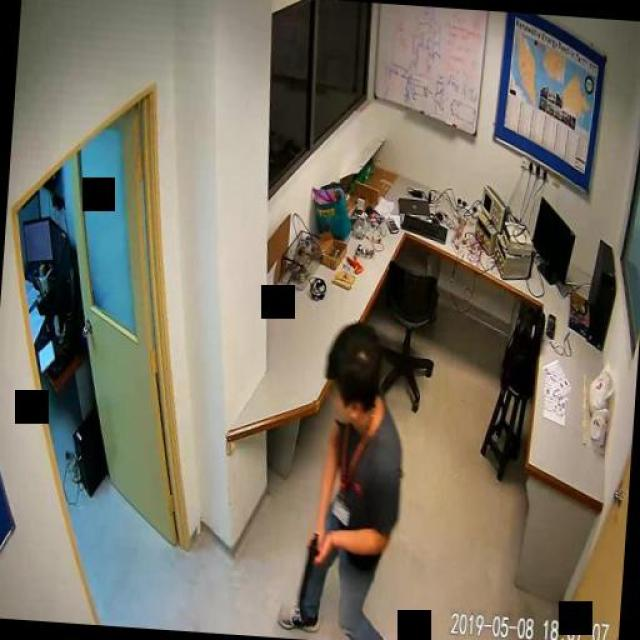gun: (296, 529, 319, 606)
